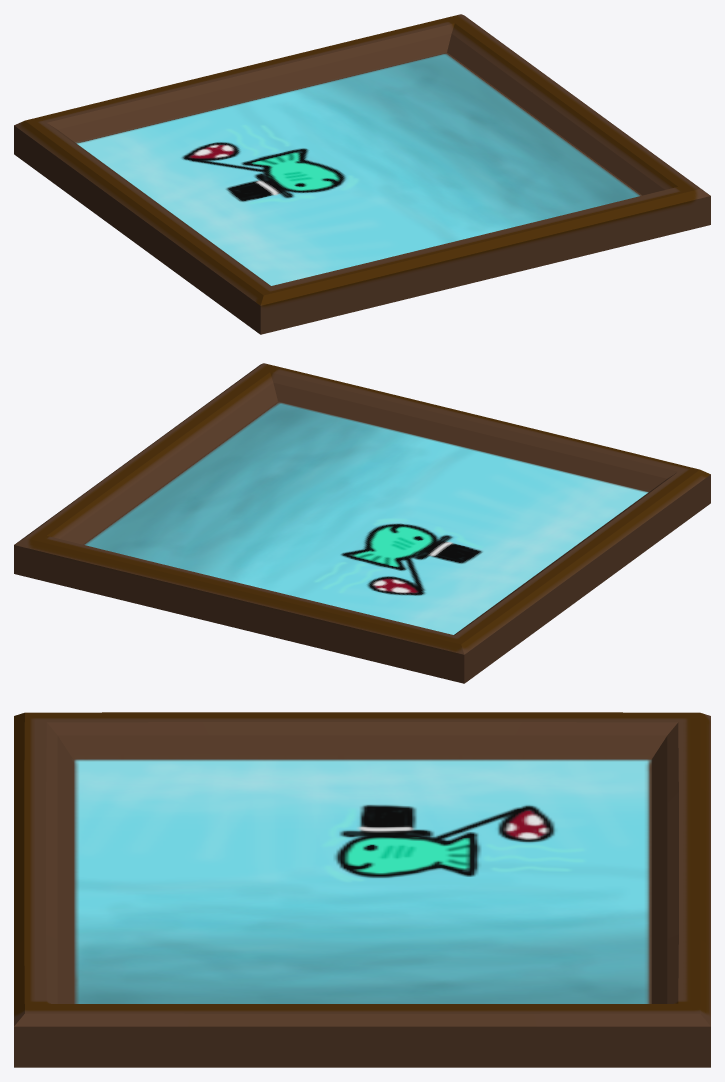
The model's file is Painting2_Model.fbx.
The picture shows the model from 3 angles, top to bottom: view 1: azimuth 30°, elevation 25°; view 2: azimuth 150°, elevation 25°; view 3: azimuth 270°, elevation 25°; orthographic projection. The views are drawn at different scales.
Parts seen in each view (by area): view 1: pCube14; view 2: pCube14; view 3: pCube14.
Boxes of the visible parts, x1=… form: pCube14: x1=14, y1=14, x2=710, y2=334; pCube14: x1=14, y1=363, x2=710, y2=683; pCube14: x1=14, y1=712, x2=710, y2=1067.
Size of the model in its own units: 0.0431 by 0.00319 by 0.0409.
